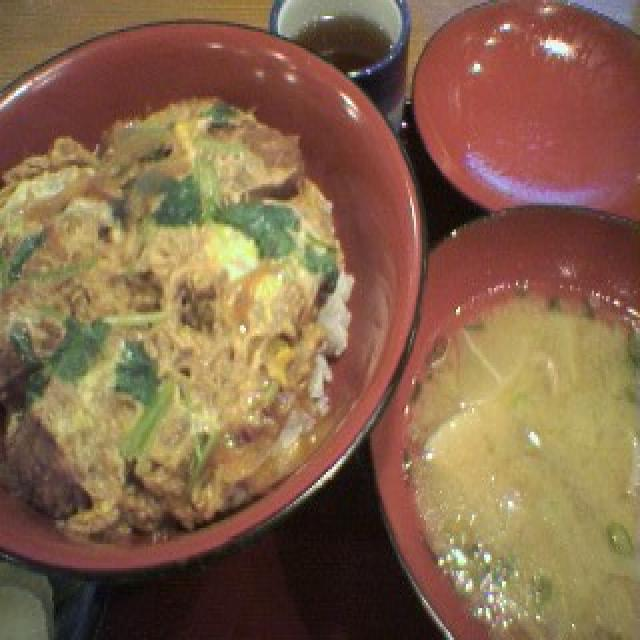汤锅炖物: (376, 200, 636, 640)
